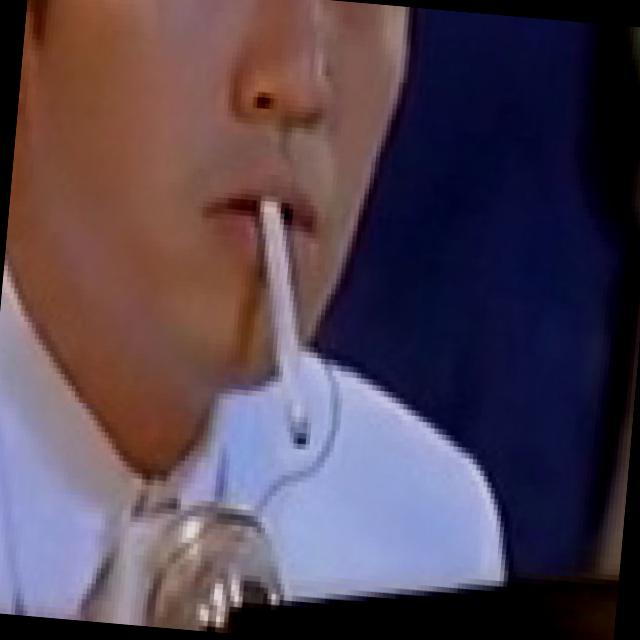smoke: (221, 176, 346, 459)
